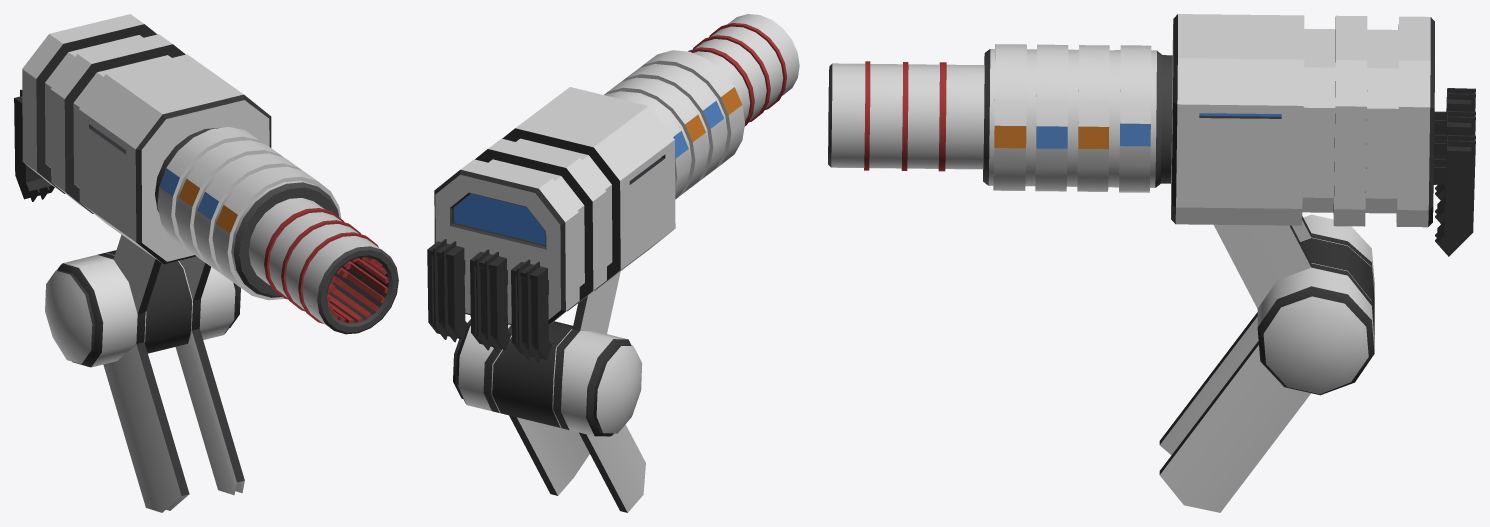
Rendered from tower_eon_cannon_asset.fbx.
3 views of the same model, side by side, from view 1: azimuth 30°, elevation 25°; view 2: azimuth 150°, elevation 25°; view 3: azimuth 270°, elevation 25° (orthographic). The views are drawn at different scales.
Visible parts, largest first — view 1: eon_cannon_top, eon_cannon_bottom, passive_twisting1, passive_twisting4, passive_twisting2, passive_twisting3; view 2: eon_cannon_top, eon_cannon_bottom, passive_twisting1, passive_twisting2, passive_twisting3, passive_twisting4; view 3: eon_cannon_top, eon_cannon_bottom, passive_twisting2, passive_twisting4, passive_twisting3, passive_twisting1.
Boxes of the visible parts, left/top/right/bottom form: eon_cannon_top: left=14, top=14, right=398, bottom=367; eon_cannon_bottom: left=103, top=328, right=244, bottom=512; passive_twisting1: left=213, top=166, right=341, bottom=300; passive_twisting4: left=157, top=127, right=264, bottom=252; passive_twisting2: left=194, top=153, right=302, bottom=282; passive_twisting3: left=176, top=140, right=283, bottom=269; eon_cannon_top: left=427, top=14, right=799, bottom=436; eon_cannon_bottom: left=509, top=415, right=645, bottom=512; passive_twisting1: left=640, top=50, right=744, bottom=174; passive_twisting2: left=622, top=64, right=726, bottom=186; passive_twisting3: left=604, top=77, right=708, bottom=196; passive_twisting4: left=604, top=91, right=690, bottom=199; eon_cannon_top: left=828, top=14, right=1475, bottom=395; eon_cannon_bottom: left=1159, top=312, right=1310, bottom=512; passive_twisting2: left=1030, top=44, right=1073, bottom=191; passive_twisting4: left=1113, top=45, right=1156, bottom=192; passive_twisting3: left=1072, top=45, right=1115, bottom=191; passive_twisting1: left=988, top=44, right=1031, bottom=190.
Size of the model in its own units: 9.09 by 20.61 by 26.64.
